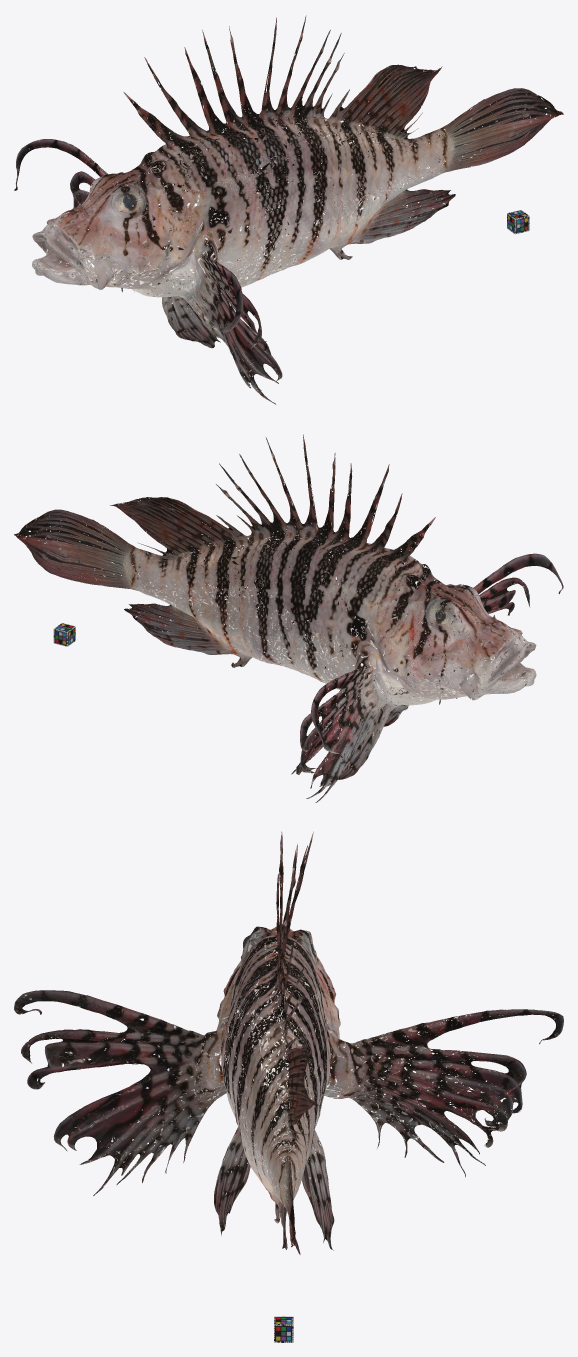
The model's file is scan_lionfish.glb.
3 renders of one model, top to bottom at view 1: azimuth 30°, elevation 25°; view 2: azimuth 150°, elevation 25°; view 3: azimuth 270°, elevation 25°, orthographic. The views are drawn at different scales.
Parts seen in each view (by area): view 1: Object_6, Object_11; view 2: Object_6, Object_11; view 3: Object_11, Object_6.
Part boxes in pixels (box(x1,y1,x2,y2)): Object_6: box(16, 17, 562, 404); Object_11: box(14, 15, 563, 404); Object_6: box(16, 435, 562, 801); Object_11: box(14, 434, 563, 802); Object_11: box(14, 831, 563, 1253); Object_6: box(16, 832, 563, 1254).
Size of the model in its own units: 13.9 by 8.45 by 10.5.
Materials: 3 (3 with a texture image).
